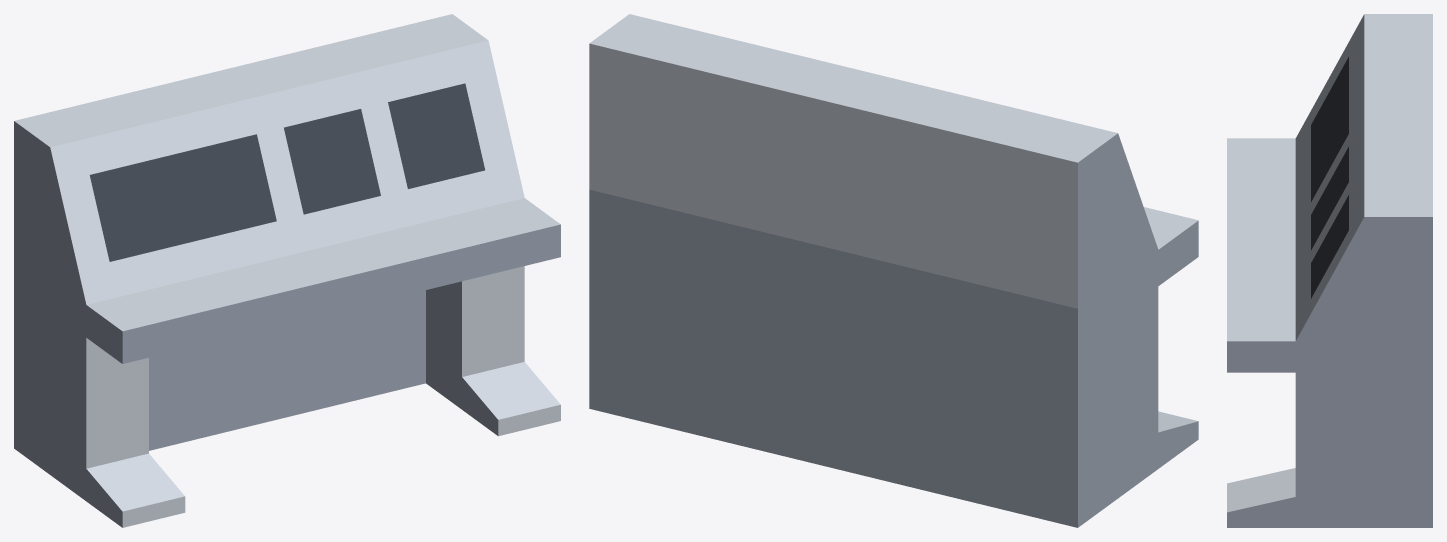
File: desk_computer.glb
The picture shows the model from 3 angles, left to right: view 1: azimuth 30°, elevation 25°; view 2: azimuth 150°, elevation 25°; view 3: azimuth 270°, elevation 25°; orthographic projection. The views are drawn at different scales.
Parts seen in each view (by area): view 1: desk_computer; view 2: desk_computer; view 3: desk_computer.
Boxes of the visible parts, box(x1,y1,x2,y2) form: desk_computer: box(14, 14, 560, 527); desk_computer: box(589, 14, 1198, 527); desk_computer: box(1227, 14, 1432, 527).
Size of the model in its own units: 0.525 by 0.375 by 0.225.
